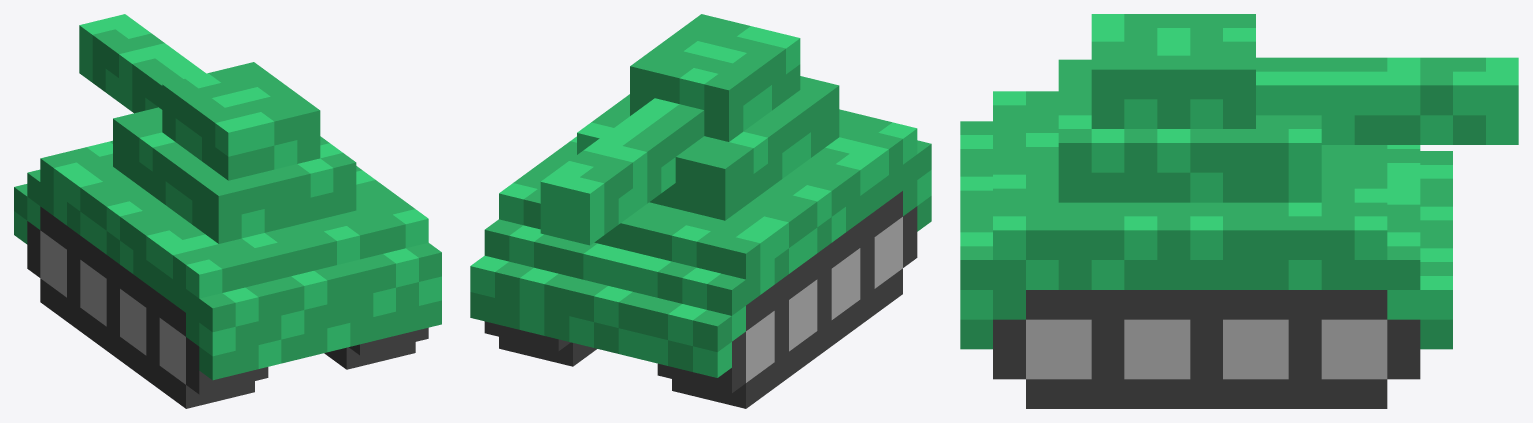
File: cars-5-Tank.obj
3 renders of one model, left to right at view 1: azimuth 30°, elevation 25°; view 2: azimuth 150°, elevation 25°; view 3: azimuth 270°, elevation 25°, orthographic. The views are drawn at different scales.
Visible parts, largest first — view 1: Tank; view 2: Tank; view 3: Tank.
Boxes of the visible parts, bbox=[...] form: Tank: bbox=[14, 14, 441, 408]; Tank: bbox=[470, 14, 931, 408]; Tank: bbox=[960, 14, 1518, 408].
Bounding box in the file's own units: 1 × 1 × 1.7.
Materials: 1 (1 with a texture image).
